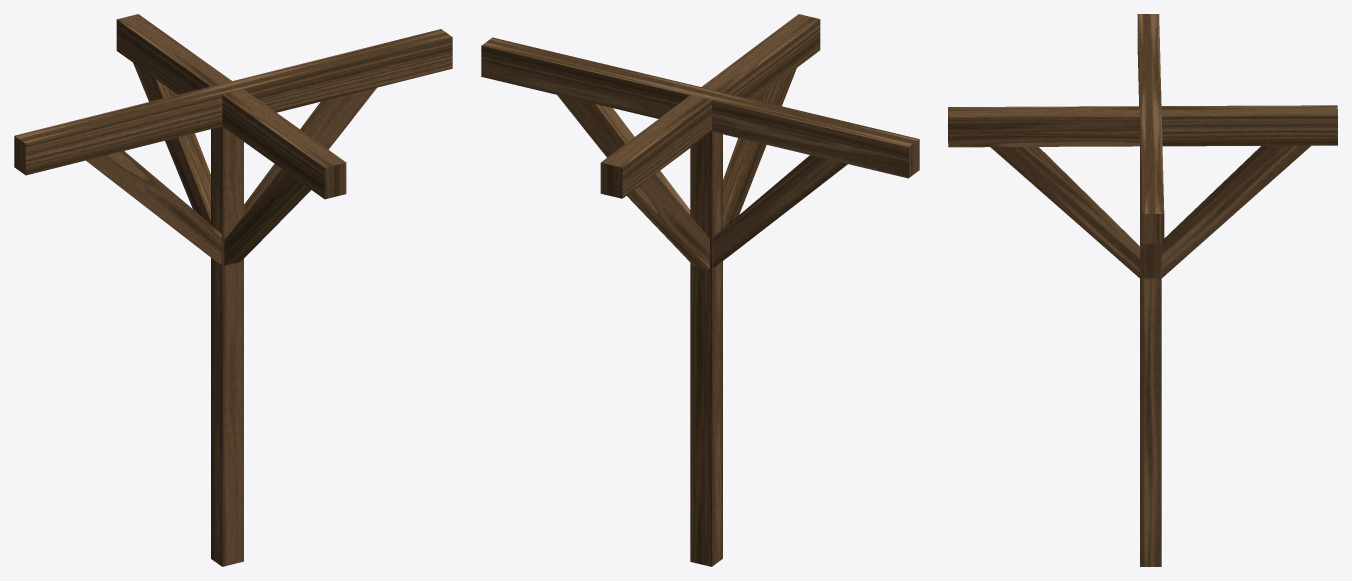
The model's file is Wooden.obj.
3 views of the same model, side by side, from view 1: azimuth 30°, elevation 25°; view 2: azimuth 150°, elevation 25°; view 3: azimuth 270°, elevation 25° (orthographic). The views are drawn at different scales.
Visible parts, largest first — view 1: Wooden_02.001_Cube.011; view 2: Wooden_02.001_Cube.011; view 3: Wooden_02.001_Cube.011.
Boxes of the visible parts, <box> form: Wooden_02.001_Cube.011: <box>14,14,452,566</box>; Wooden_02.001_Cube.011: <box>481,14,919,566</box>; Wooden_02.001_Cube.011: <box>948,14,1337,566</box>.
Size of the model in its own units: 10.94 by 11.49 by 9.01.
